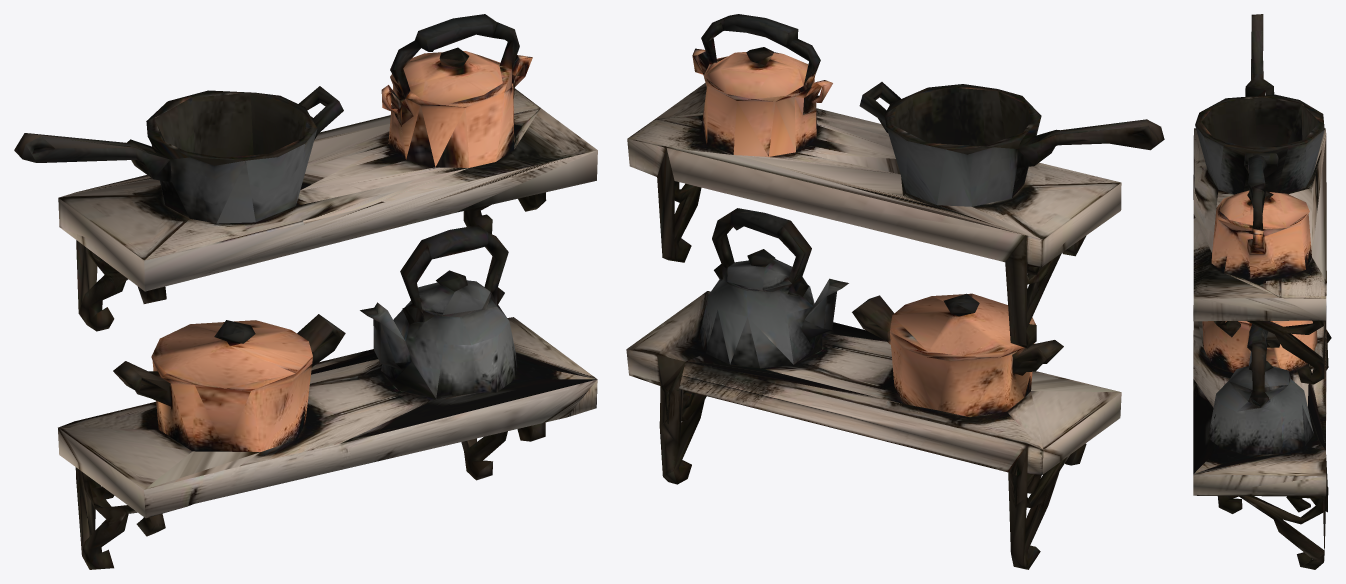
Rendered from lhi_pot_shelf.glb.
3 views of the same model, side by side, from view 1: azimuth 30°, elevation 25°; view 2: azimuth 150°, elevation 25°; view 3: azimuth 270°, elevation 25° (orthographic). The views are drawn at different scales.
Parts seen in each view (by area): view 1: material; view 2: material; view 3: material.
Part boxes in pixels (x1,y1,x2,y2): material: (14, 14, 597, 569); material: (626, 14, 1164, 569); material: (1193, 14, 1331, 569).
Size of the model in its own units: 0.9238 by 0.8085 by 0.2665.
1 material, 1 textured.
